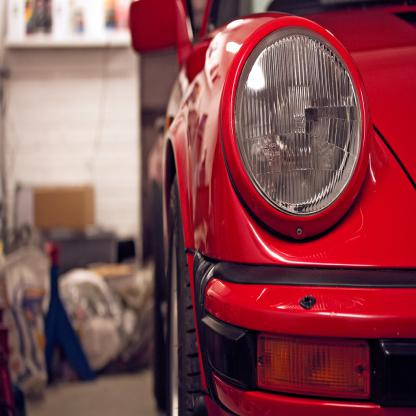Car: (144, 0, 403, 410)
